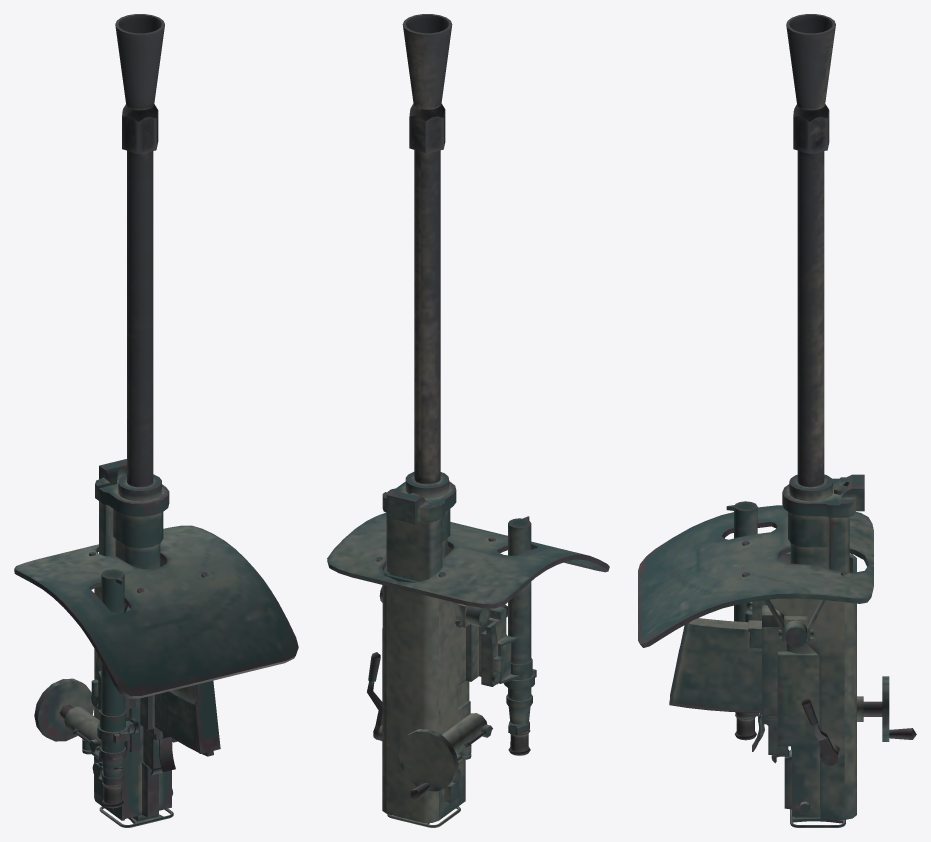
File: Gun_04.glb
3 views of the same model, side by side, from view 1: azimuth 30°, elevation 25°; view 2: azimuth 150°, elevation 25°; view 3: azimuth 270°, elevation 25° (orthographic).
Parts seen in each view (by area): view 1: set_0_group_0; view 2: set_0_group_0; view 3: set_0_group_0.
Part boxes in pixels (left/top/right/bottom): set_0_group_0: left=14, top=14, right=298, bottom=827; set_0_group_0: left=327, top=14, right=609, bottom=827; set_0_group_0: left=638, top=14, right=916, bottom=827.
Bounding box in the file's own units: 0.4115 × 1.71 × 0.5452.
1 material, 1 textured.
